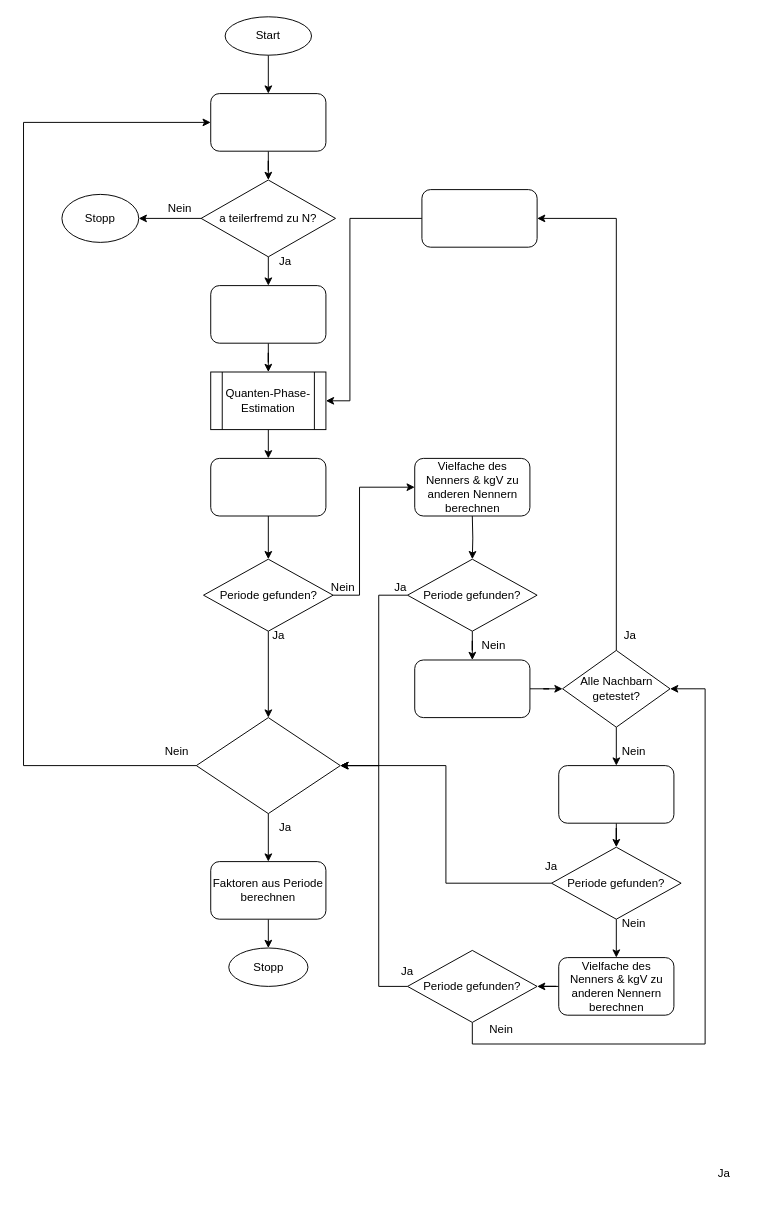
This 770x1205 diagram has some shape labels left out. The shapes that lost their labels are listed below. From the top down, each one's centre as x and y in pixels, then its label:
(268,122): Wähle a mit a < N
(479,218): Speicher Messergebnis im Set zu a
(268,314): Lege Set für Messergebnisse zu a an
(268,486): Kettenbruch-Algorithmus
(472,688): Nachbarn vom Messergebnis auswählen
(267,765): Periode gerade und spezielle Bedingung
(616,794): Nenner eines Nachbarn testen
